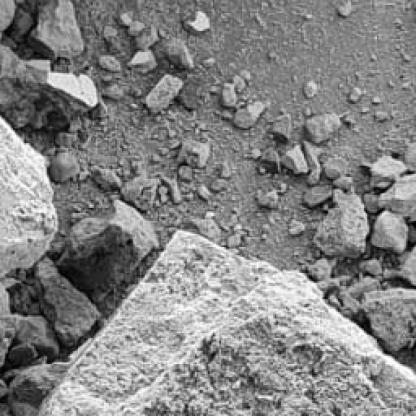cementitious_debris: (2, 1, 414, 414), (119, 13, 167, 72), (222, 67, 265, 131), (146, 117, 180, 165), (142, 77, 183, 114), (250, 182, 289, 210), (163, 40, 195, 70), (181, 11, 210, 33), (97, 54, 123, 75), (335, 2, 356, 20), (101, 86, 125, 101), (348, 85, 364, 105), (394, 47, 411, 65), (298, 82, 317, 98), (288, 220, 306, 235), (345, 110, 356, 131), (376, 110, 393, 122), (202, 58, 217, 70), (127, 102, 142, 114), (253, 14, 265, 28), (264, 51, 280, 59), (400, 80, 411, 91), (394, 19, 405, 30), (301, 11, 313, 19), (387, 80, 395, 91), (372, 95, 381, 104), (371, 55, 379, 60)
